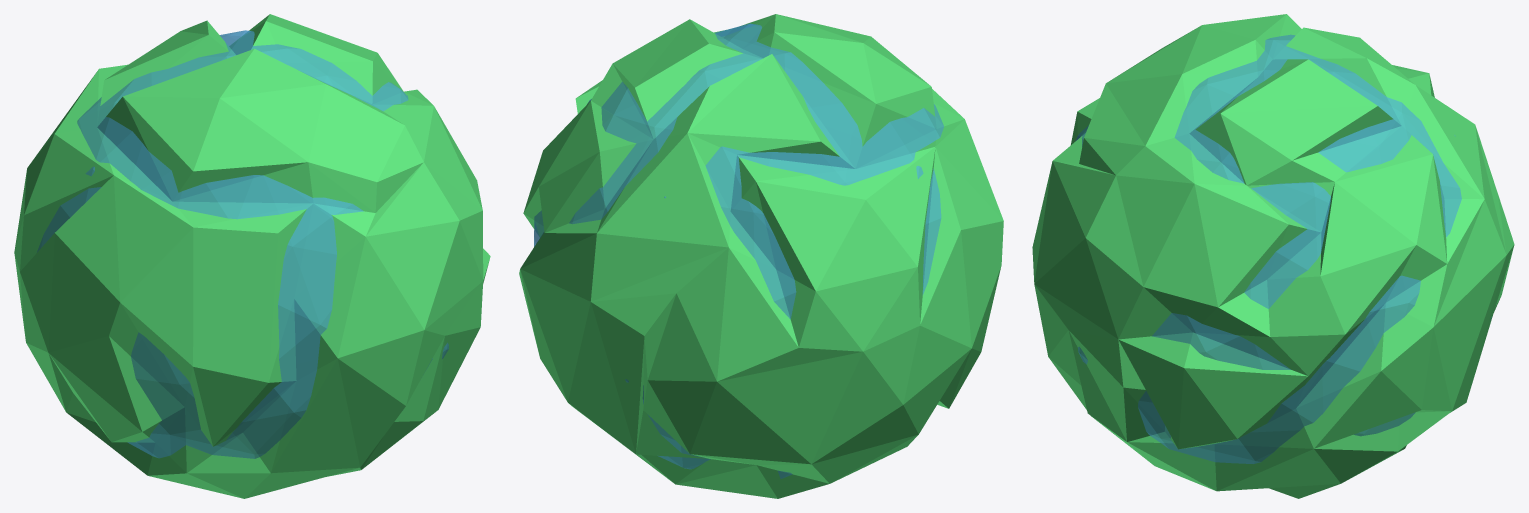
The model's file is earth_like_planet2.fbx.
3 views of the same model, side by side, from view 1: azimuth 30°, elevation 25°; view 2: azimuth 150°, elevation 25°; view 3: azimuth 270°, elevation 25° (orthographic).
Visible parts, largest first — view 1: earth_like_planet2; view 2: earth_like_planet2; view 3: earth_like_planet2.
Boxes of the visible parts, left/top/right/bottom form: earth_like_planet2: left=14, top=14, right=490, bottom=498; earth_like_planet2: left=519, top=14, right=1003, bottom=498; earth_like_planet2: left=1032, top=14, right=1514, bottom=498.
Bounding box in the file's own units: 200 × 202 × 202.
